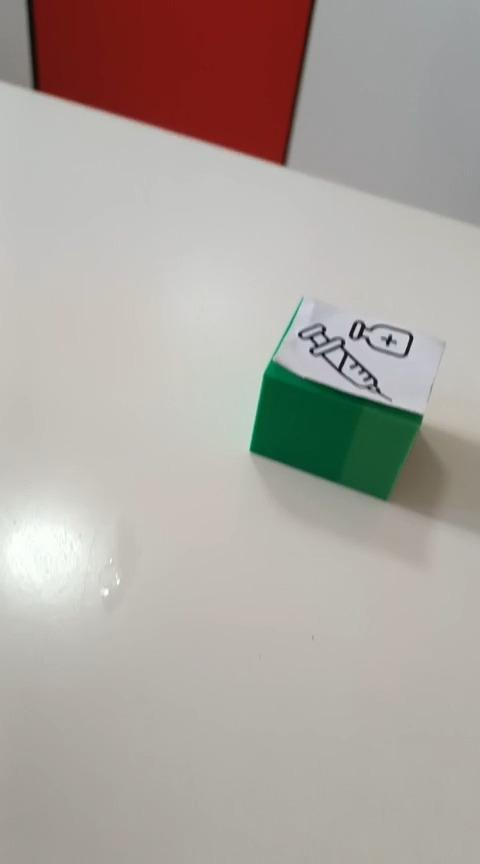antiseptic cream: (247, 294, 446, 501)
